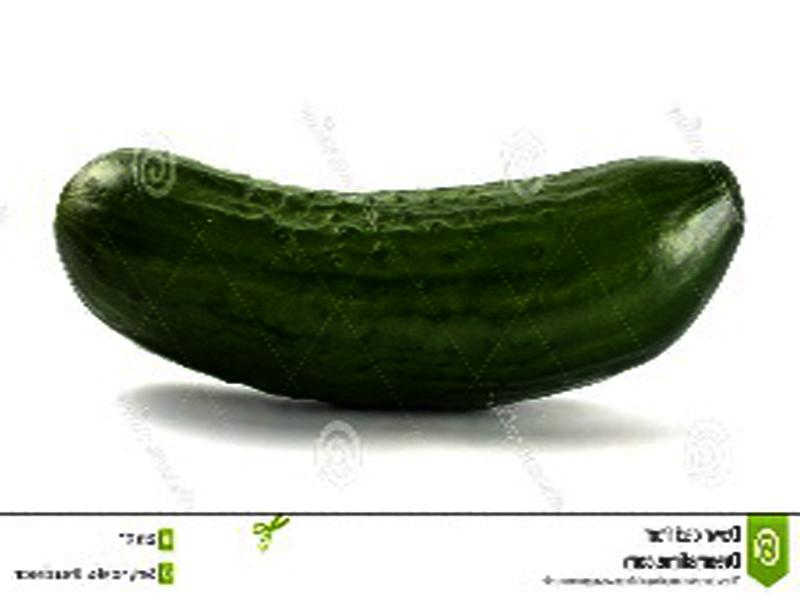Cucumber: (55, 156, 739, 410)
